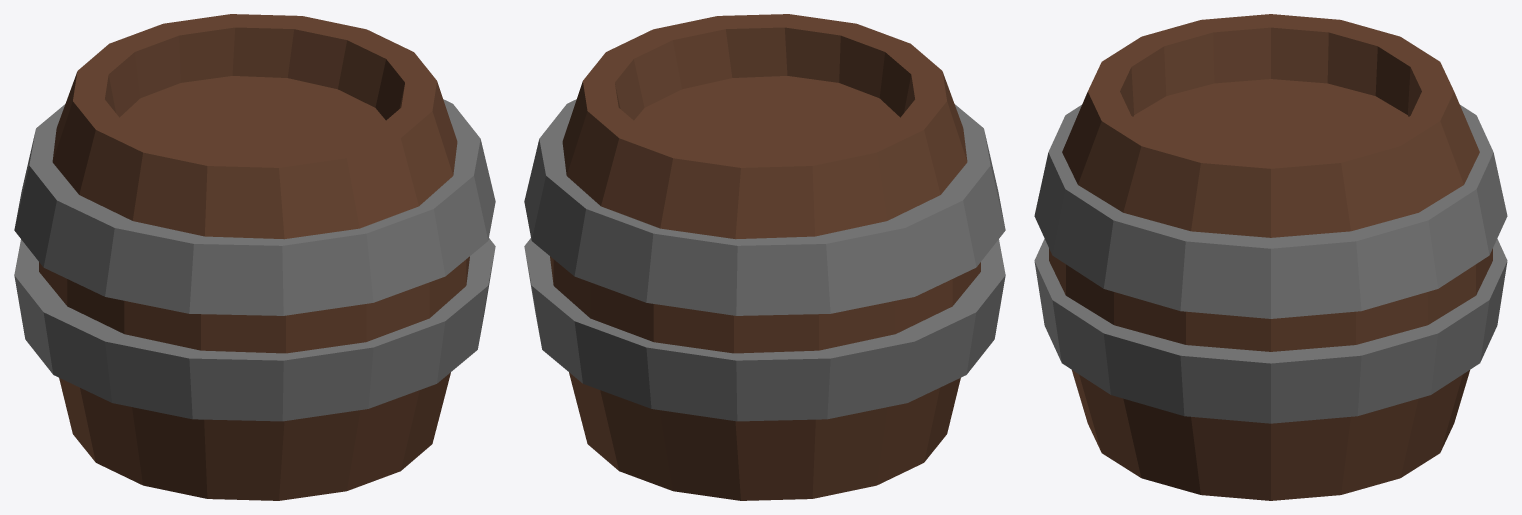
File: beczka.fbx
3 renders of one model, left to right at view 1: azimuth 30°, elevation 25°; view 2: azimuth 150°, elevation 25°; view 3: azimuth 270°, elevation 25°, orthographic.
Visible parts, largest first — view 1: Cylinder; view 2: Cylinder; view 3: Cylinder.
Part boxes in pixels (left/top/right/bottom): Cylinder: left=14, top=14, right=495, bottom=500; Cylinder: left=524, top=14, right=1005, bottom=500; Cylinder: left=1034, top=14, right=1507, bottom=500.
Size of the model in its own units: 266 by 200 by 258.
